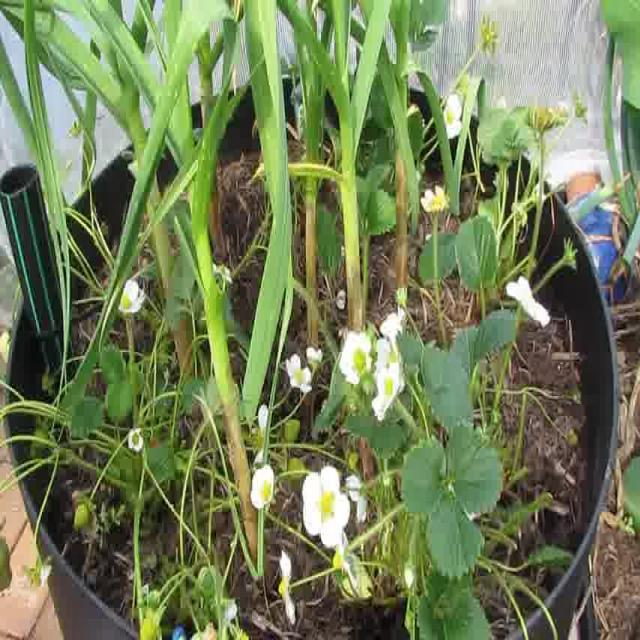Fruta sana: (72, 491, 96, 532), (140, 606, 168, 640), (30, 416, 48, 458), (278, 418, 300, 448), (0, 537, 12, 591), (286, 457, 306, 480), (41, 374, 54, 396), (348, 452, 360, 471)
Moho gris: (189, 622, 216, 640)
